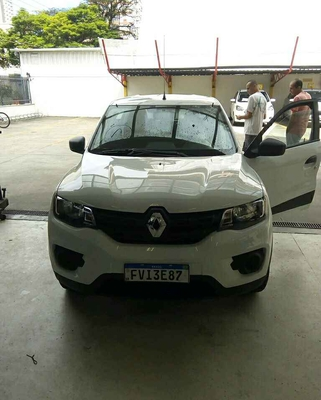Frontal Veiculo: (48, 99, 274, 295)
